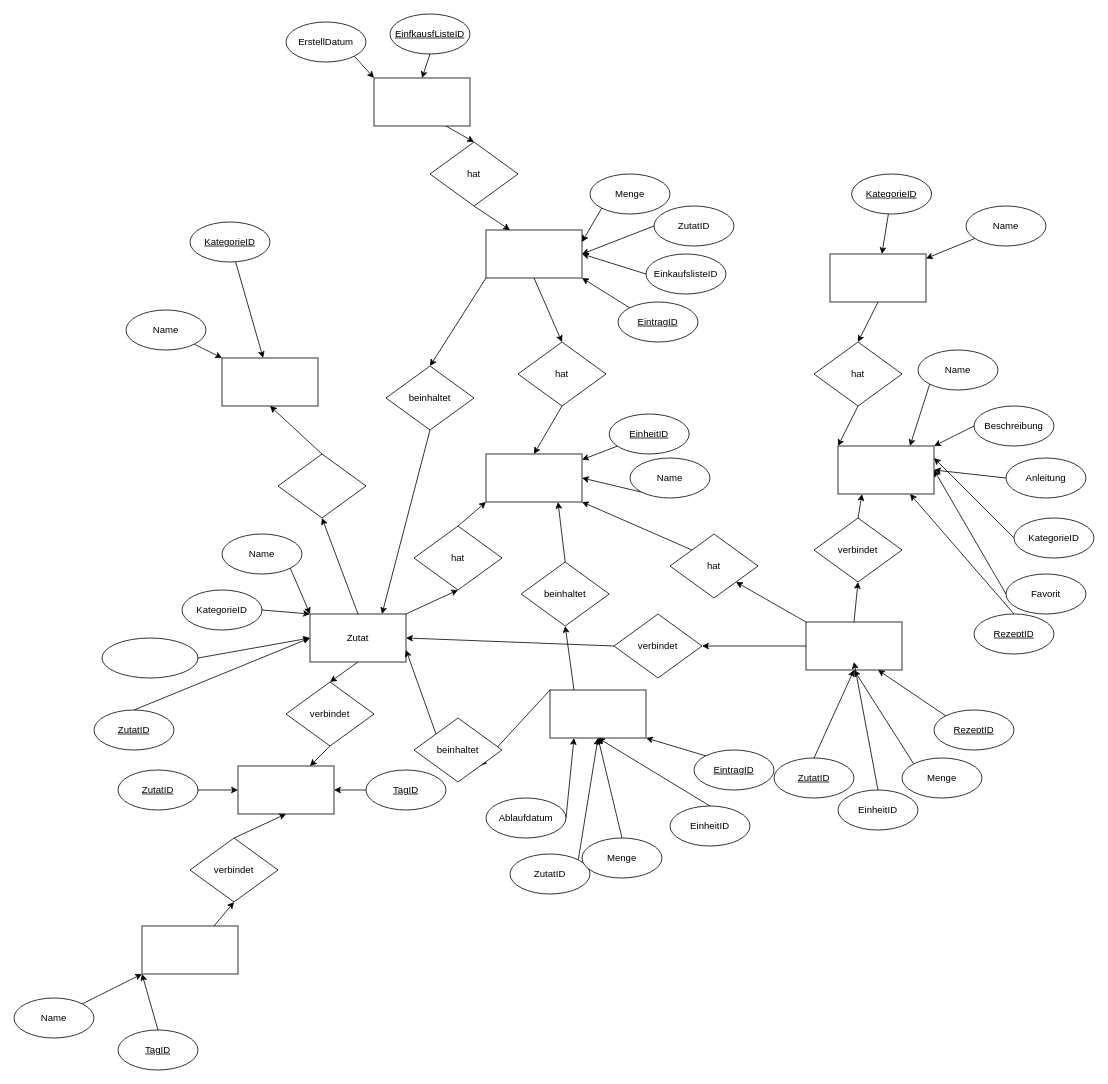
Some shapes in this 1108 by 1084 pixel diagram are drawn without their labels. Each missing label, with the centre of its shape:
addiert an: [321,485]
Einheit: [533,477]
EinkaufsListe: [421,101]
EinkaufsListeEintrag: [533,253]
KühlschrankEintrag: [597,713]
Rezept: [885,469]
RezeptKategorie: [877,277]
RezeptZutat: [853,645]
StandarteinheitenID: [149,657]
Tag: [189,949]
ZutatKategorie: [269,381]
ZutatTag: [285,789]
